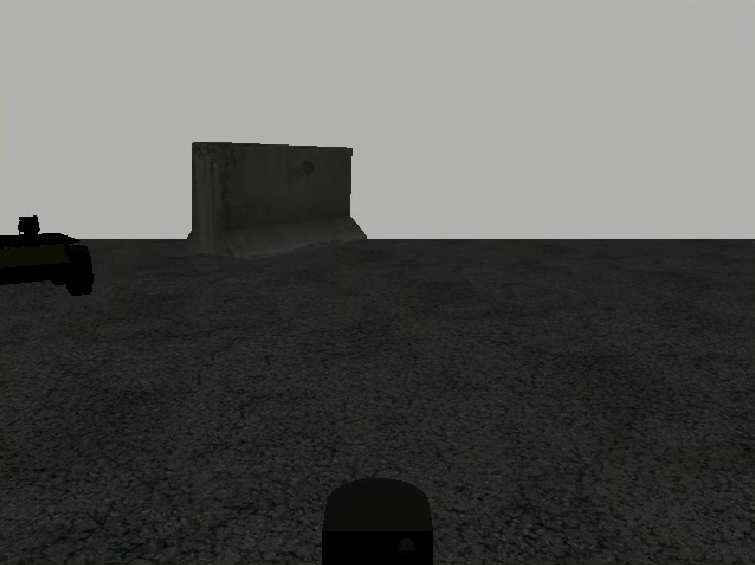husky: (1, 233, 94, 296)
